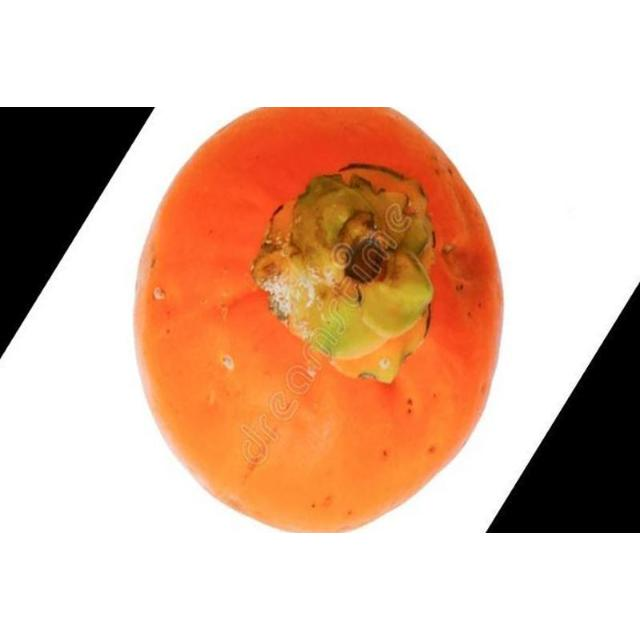good: (132, 107, 506, 533)
